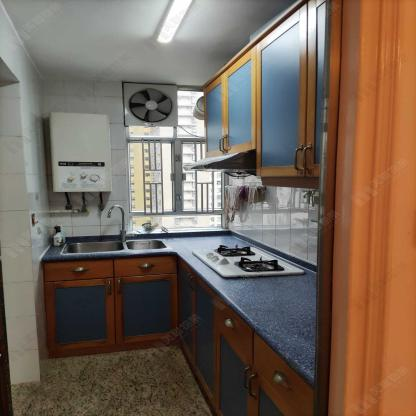Cupboard: (200, 0, 324, 177), (181, 259, 315, 413), (41, 258, 177, 354)
Exhaust Fan: (123, 81, 178, 127)
Exhaust Hood: (184, 148, 258, 178)
Faucet: (104, 203, 128, 241)
Sink: (57, 239, 169, 256)
Stove: (192, 244, 302, 277)
